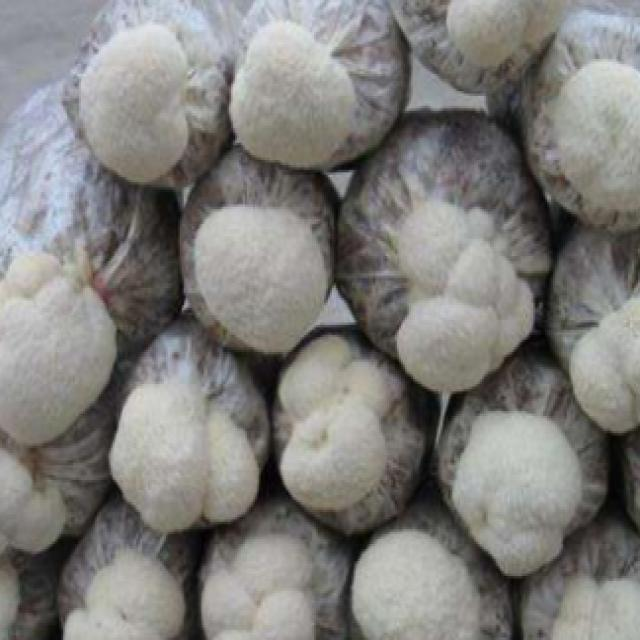Hericium erinaceus: (398, 196, 536, 387), (109, 369, 262, 527), (0, 257, 118, 441), (453, 415, 584, 577), (281, 338, 397, 506), (195, 206, 325, 355), (227, 21, 355, 168), (82, 27, 192, 178), (352, 529, 480, 640), (558, 60, 640, 210), (201, 536, 314, 640), (65, 554, 186, 640), (570, 292, 640, 432), (0, 446, 69, 557), (553, 568, 640, 640)
